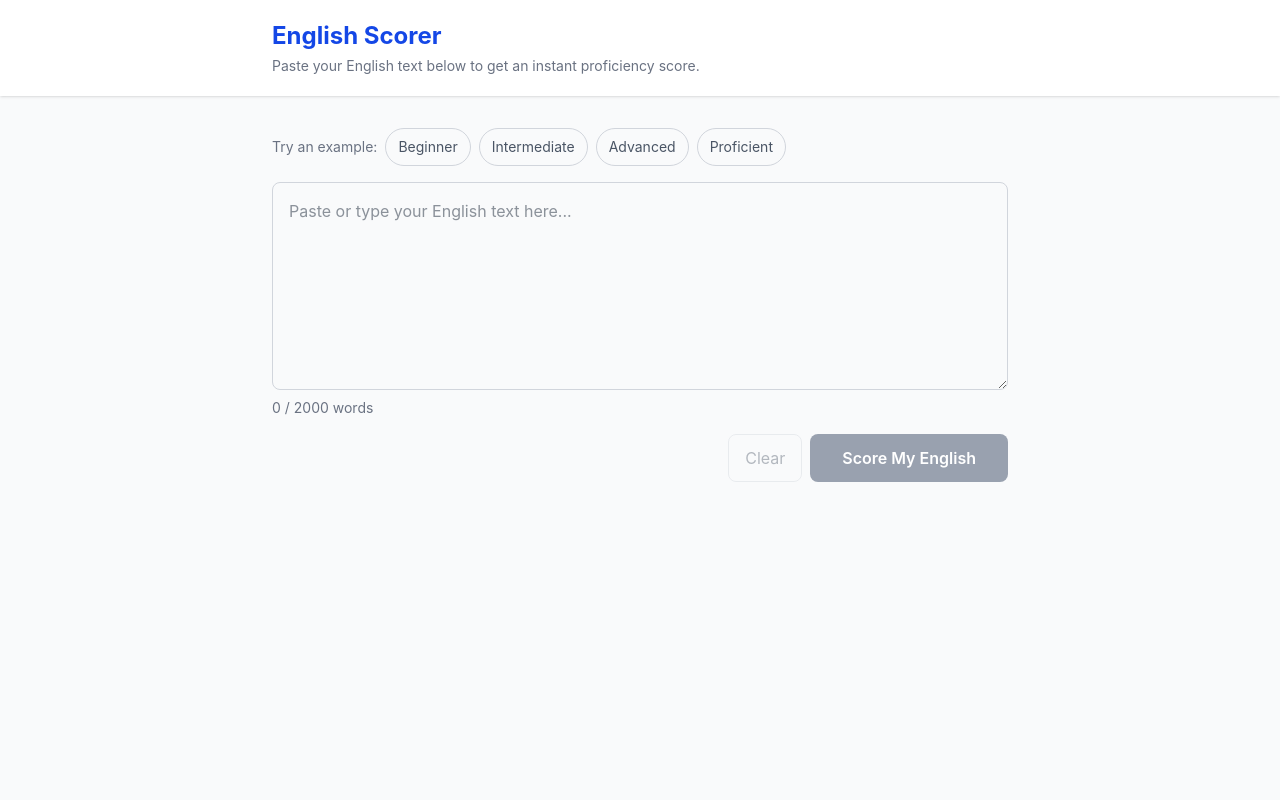
App › clears client-side validation error when user edits text
In the text box: [640, 286] box [272,182,1008,390], type "one two three"
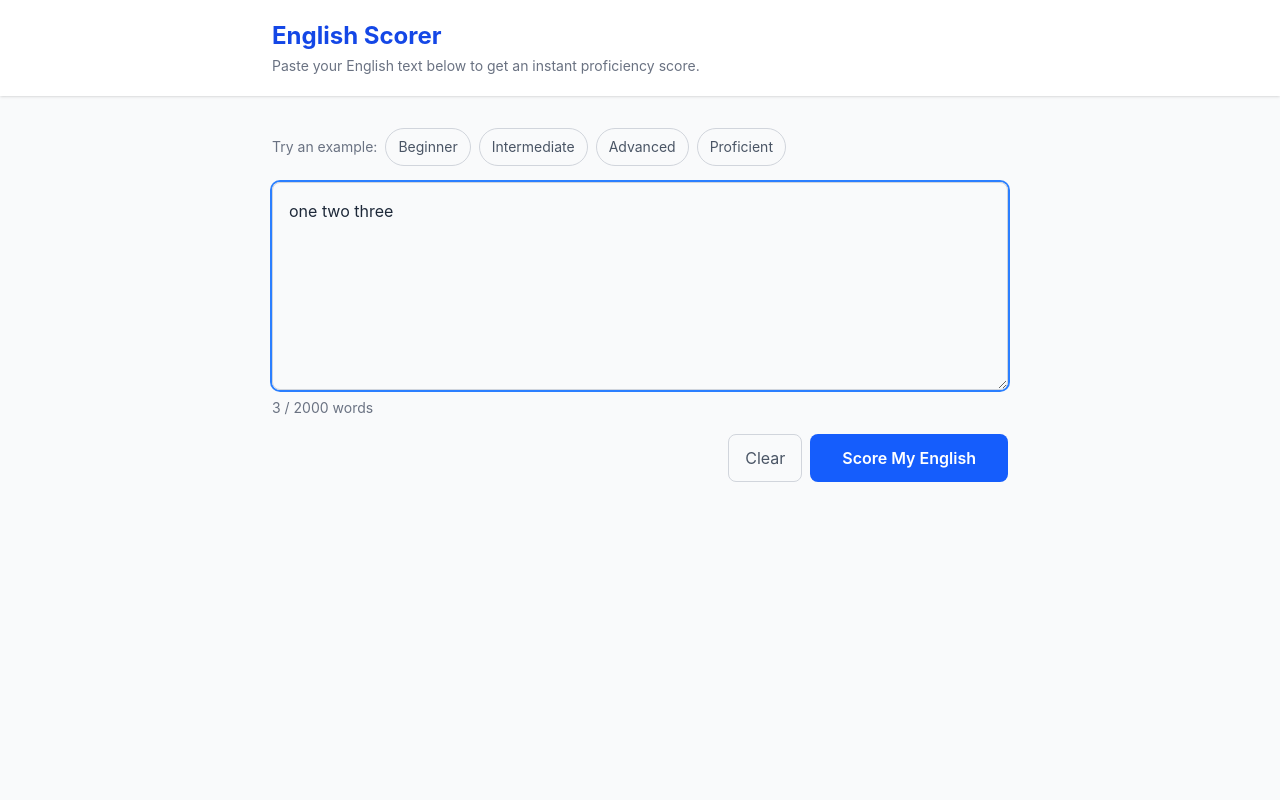
Click the button "Score My English": [909, 458] box [810,434,1008,482]
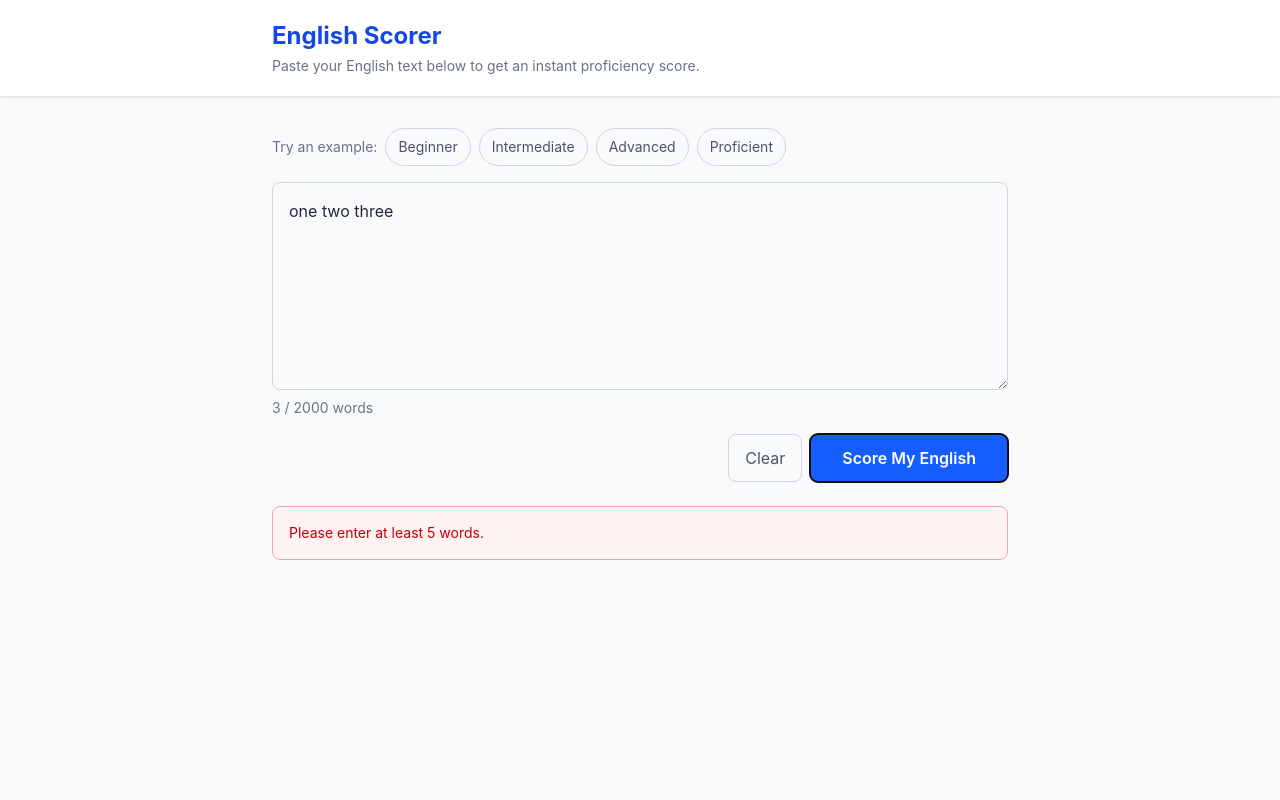
Expected: the message "Please enter at least 5 words." is shown, [272,506,1008,560]
In the text box: [640, 286] box [272,182,1008,390], type " more words"
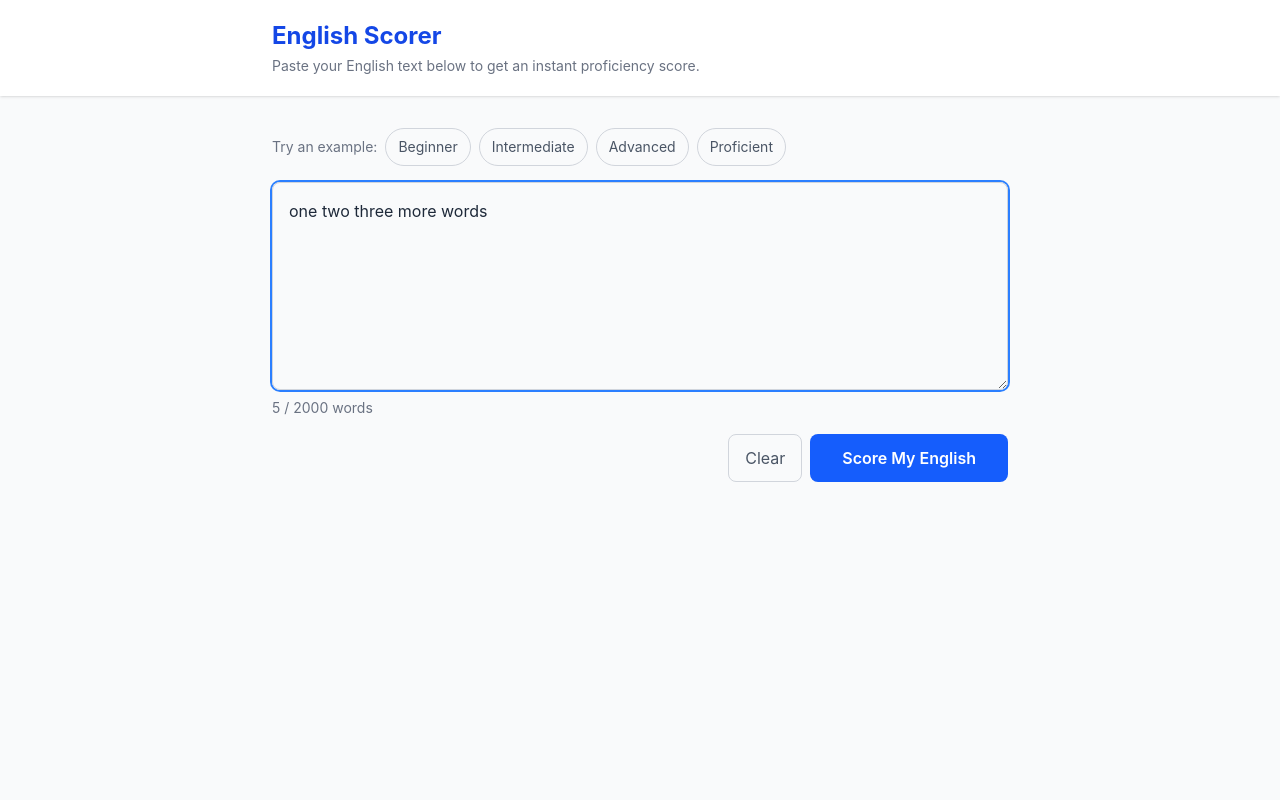
Expected: the message "Please enter at least 5 words." is gone
